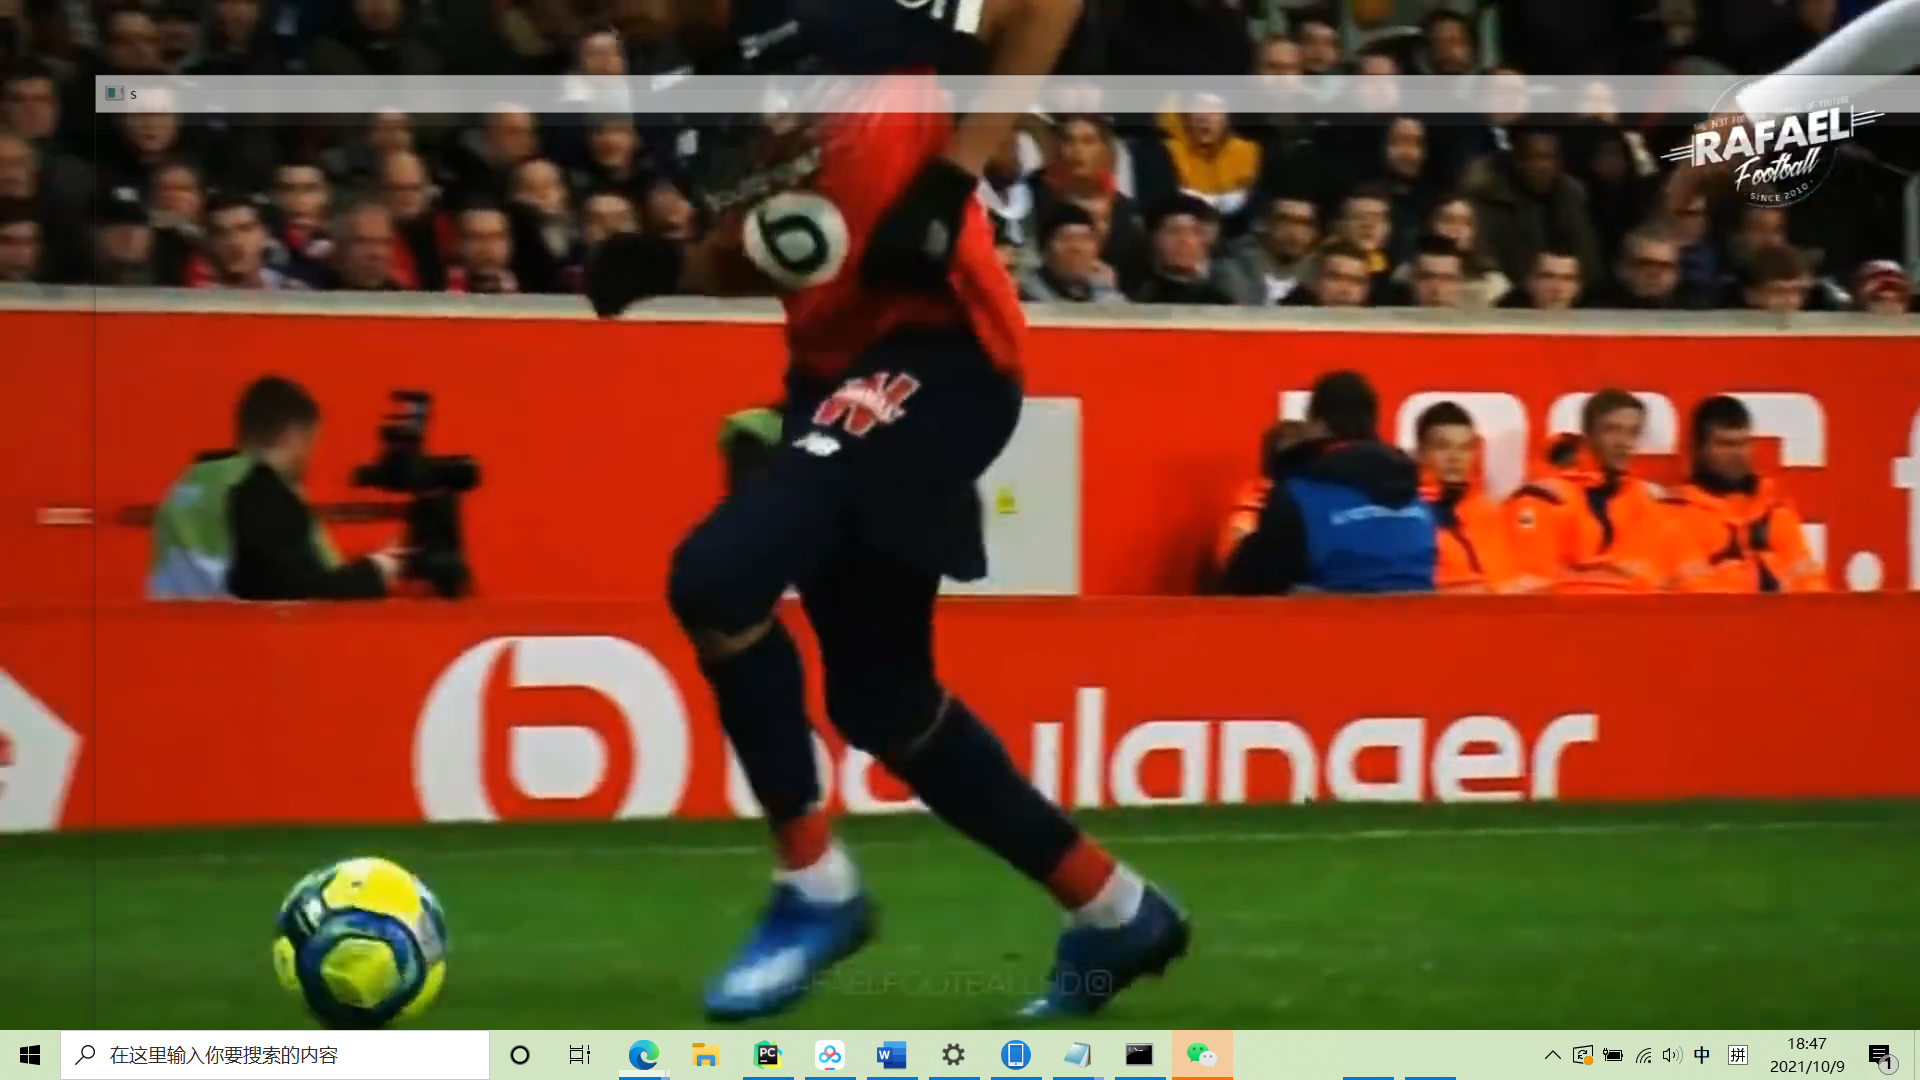ft: (258, 857, 469, 1025)
